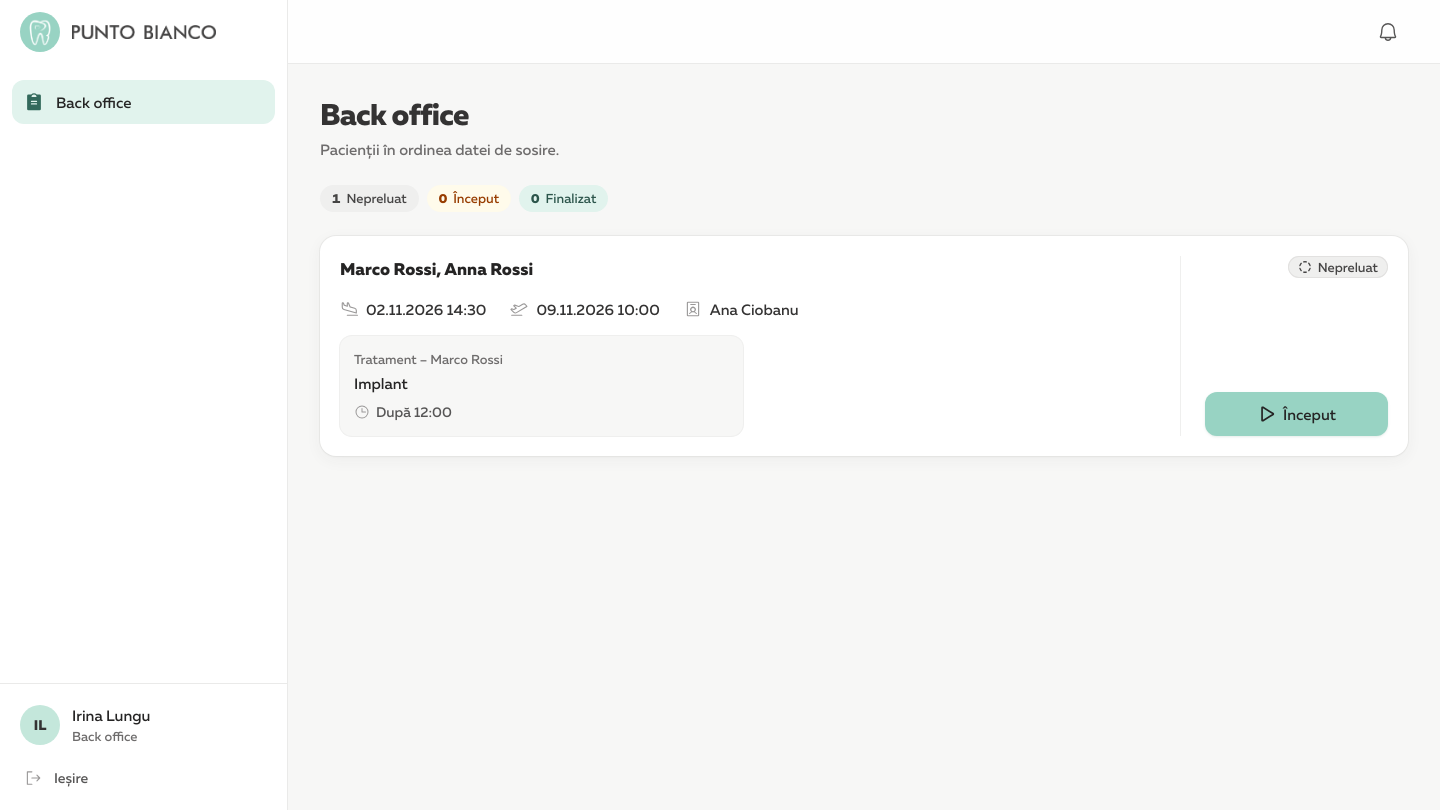
Test: Back office › 409 (altcineva a apăsat deja): mesaj + lista reîncărcată
The width and height of the screenshot is (1440, 810).
Click the button "Început" at (1296, 414), box [1205,392,1388,436]
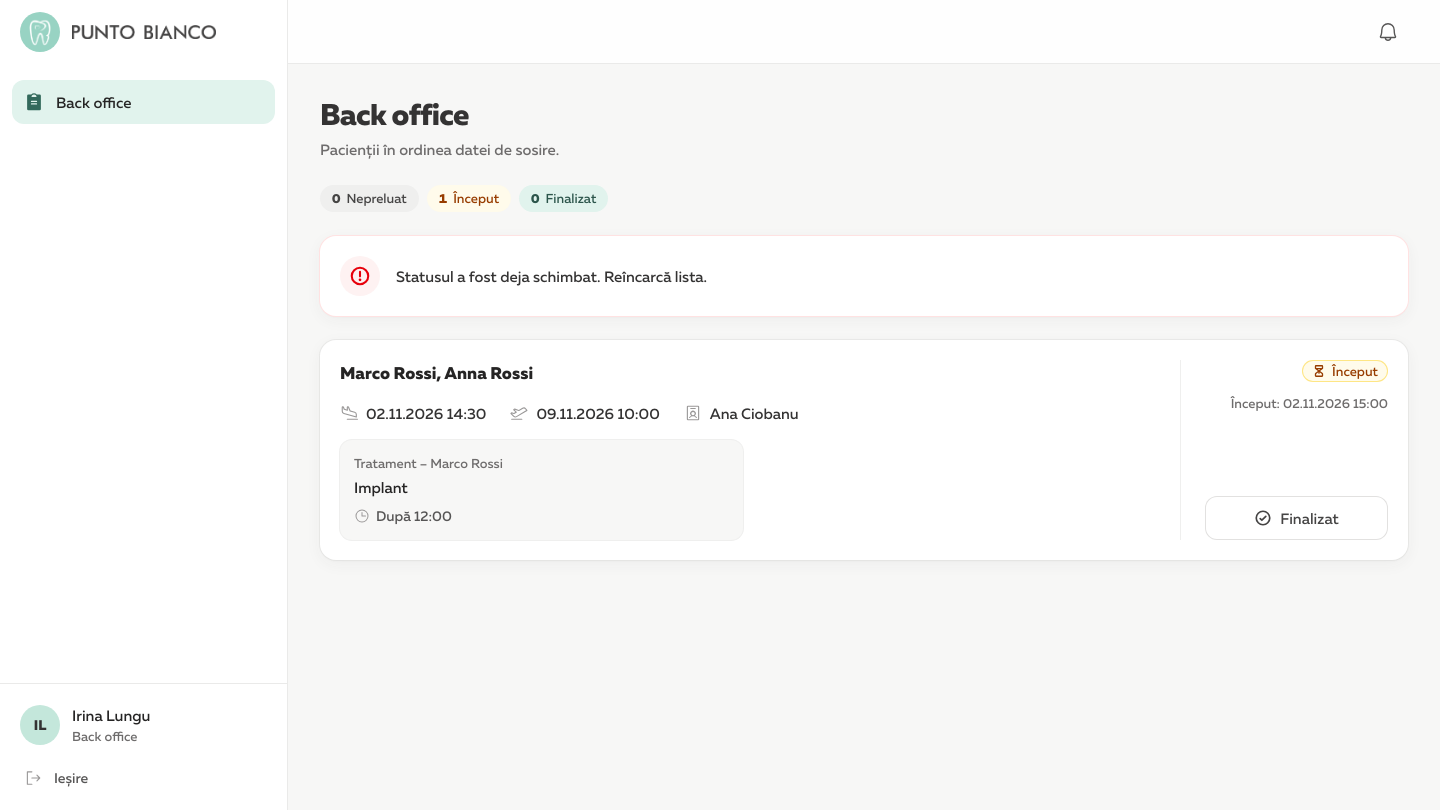
expect the message shows "Statusul a fost deja schimbat": met, box [396,267,707,285]
expect the button "Finalizat" is shown: met, box [1205,496,1388,540]
